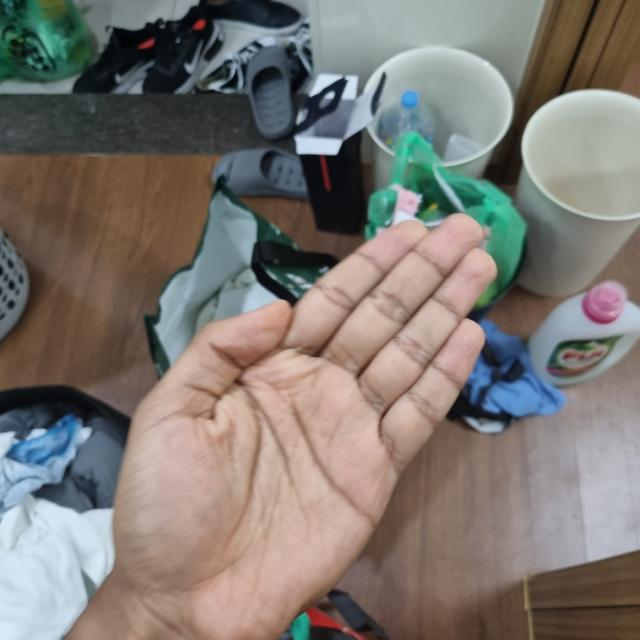Paper: (110, 211, 494, 638)
